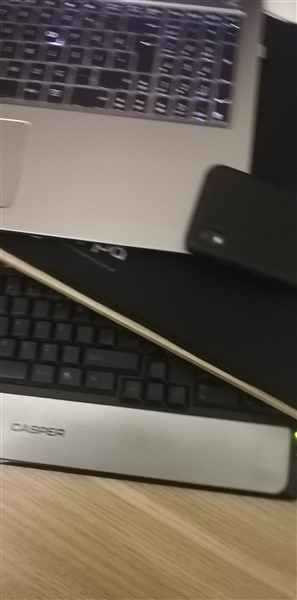telefon: (180, 157, 297, 297)
